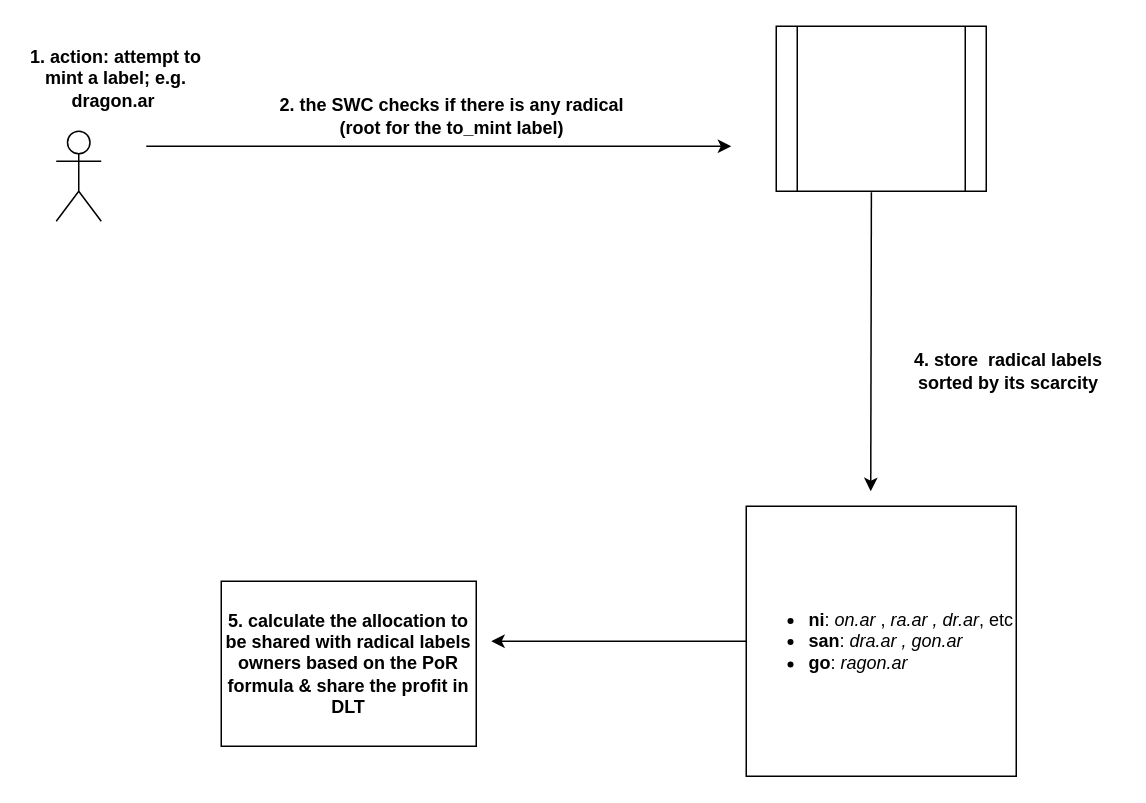
Image size: 1146x803. Some labels were removed from this diagram. Each missing label, with the box of its shape:
PoR : find radical labels having a length lower than `to_mint` length: (775, 25, 986, 191)
user A: (55, 130, 101, 221)
